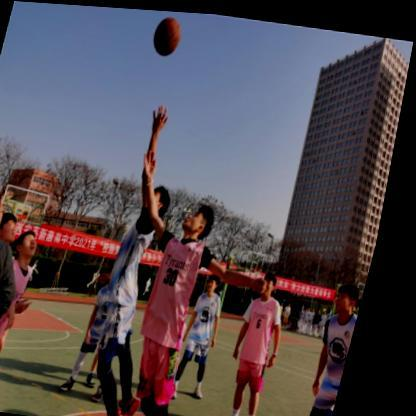basketball: (151, 12, 186, 55)
